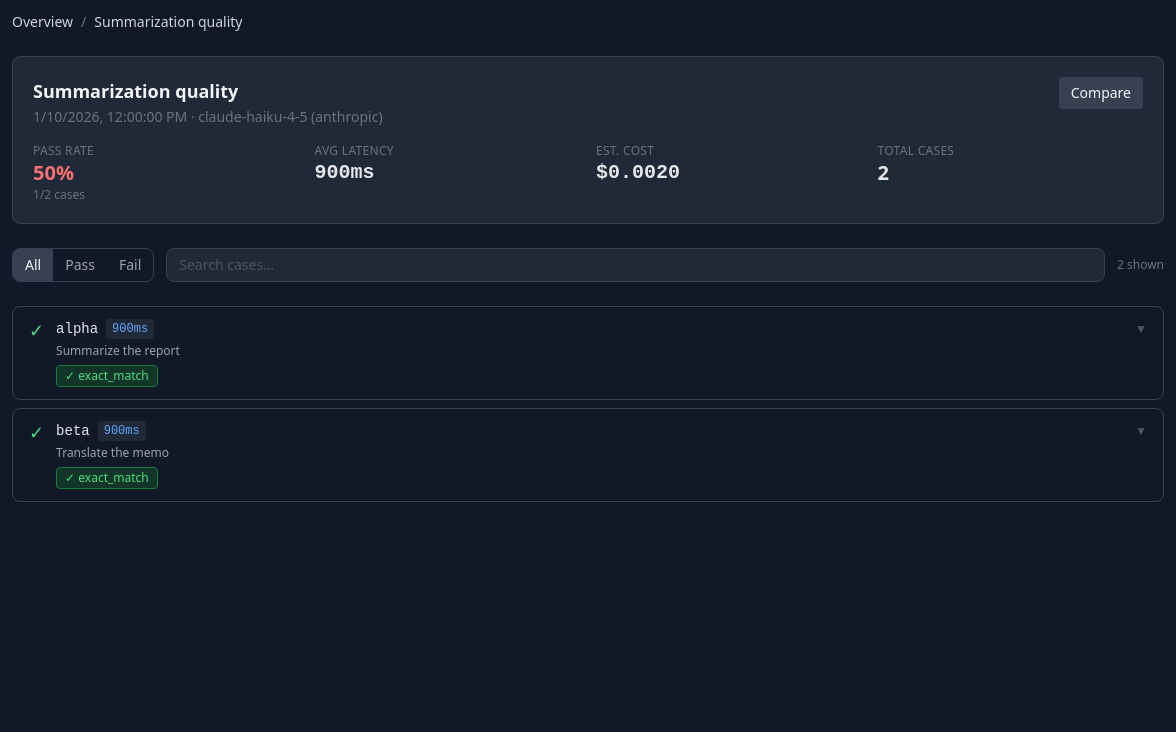
Test case: RunDetail page › filters cases by the search box across case_id and prompt
Expected: the text "alpha" is shown, [56,319,98,339]
Step 1. Type "translate" into the field with placeholder "Search cases…" → [636, 265], box [166,248,1105,282]
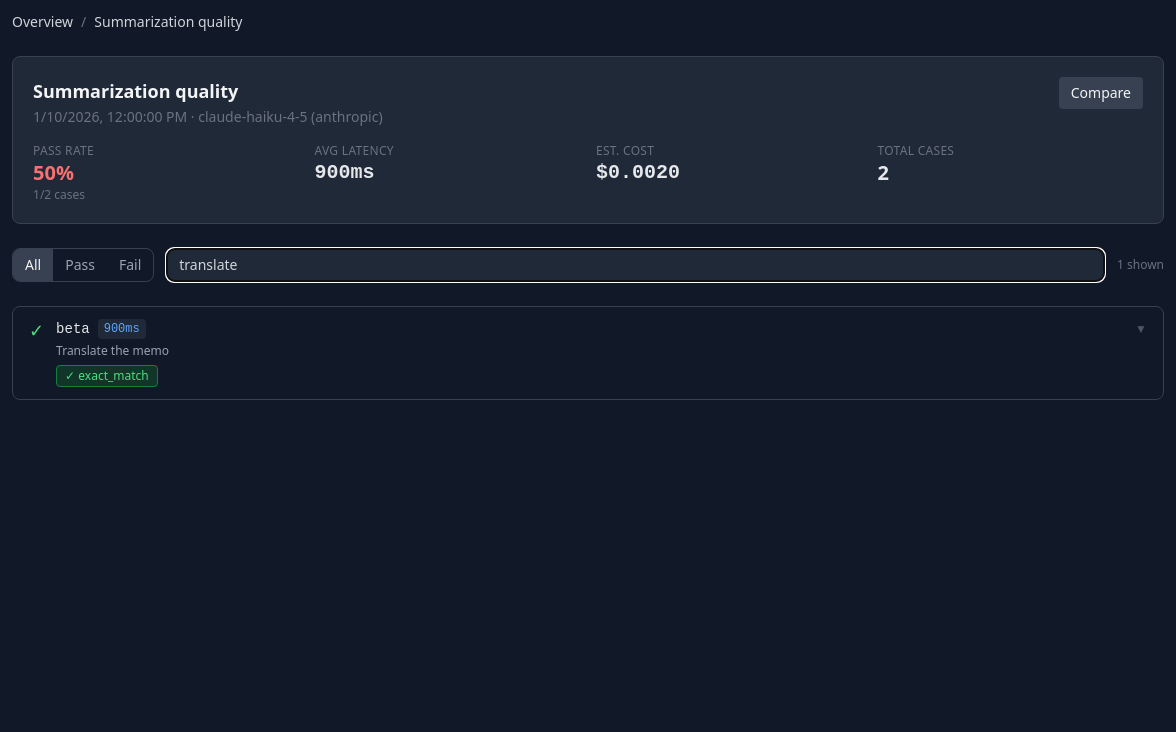
Expected: the text "beta" is shown, [56,319,90,339]
Expected: the button "alpha" is gone
